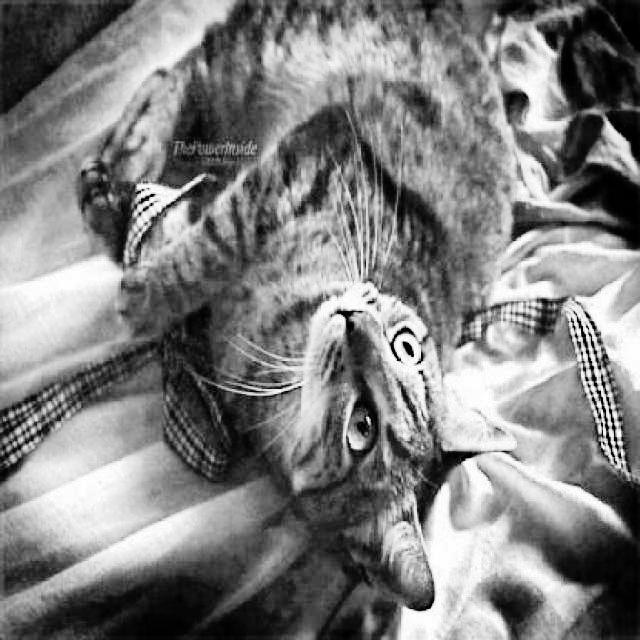Cat: (69, 0, 523, 615)
